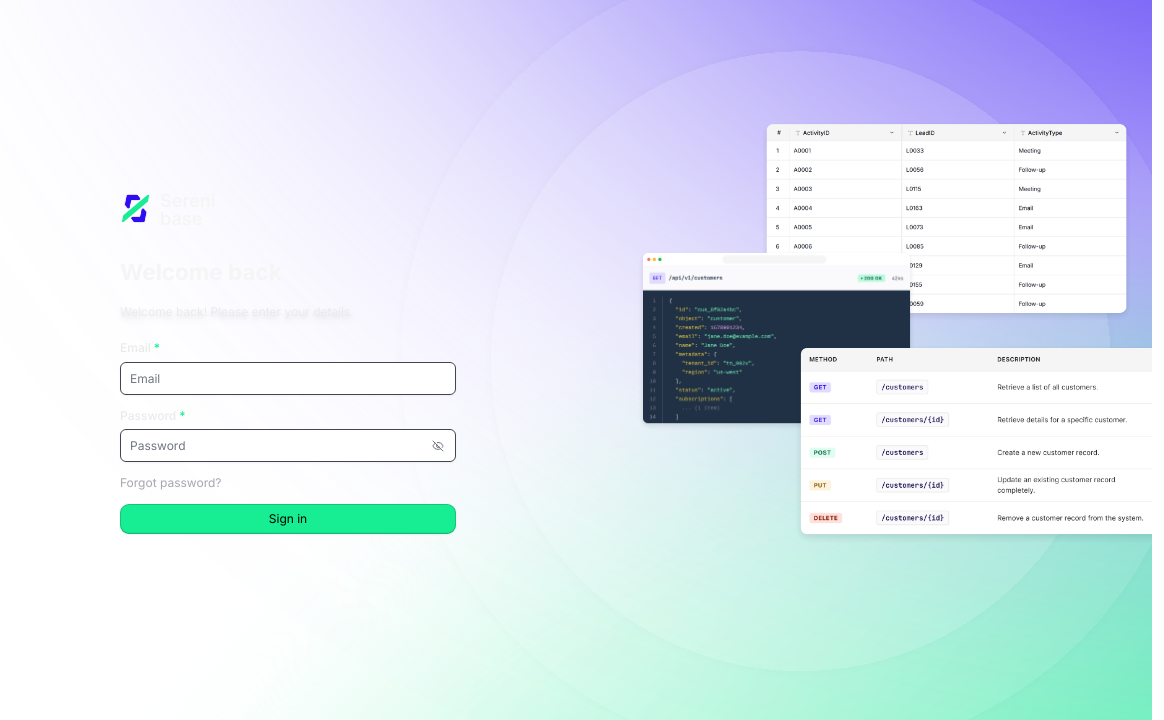
Test: LoginPage › Password validation › should clear error when password entered
Click the password field with placeholder "Password" at (288,446), box [120,429,456,462]
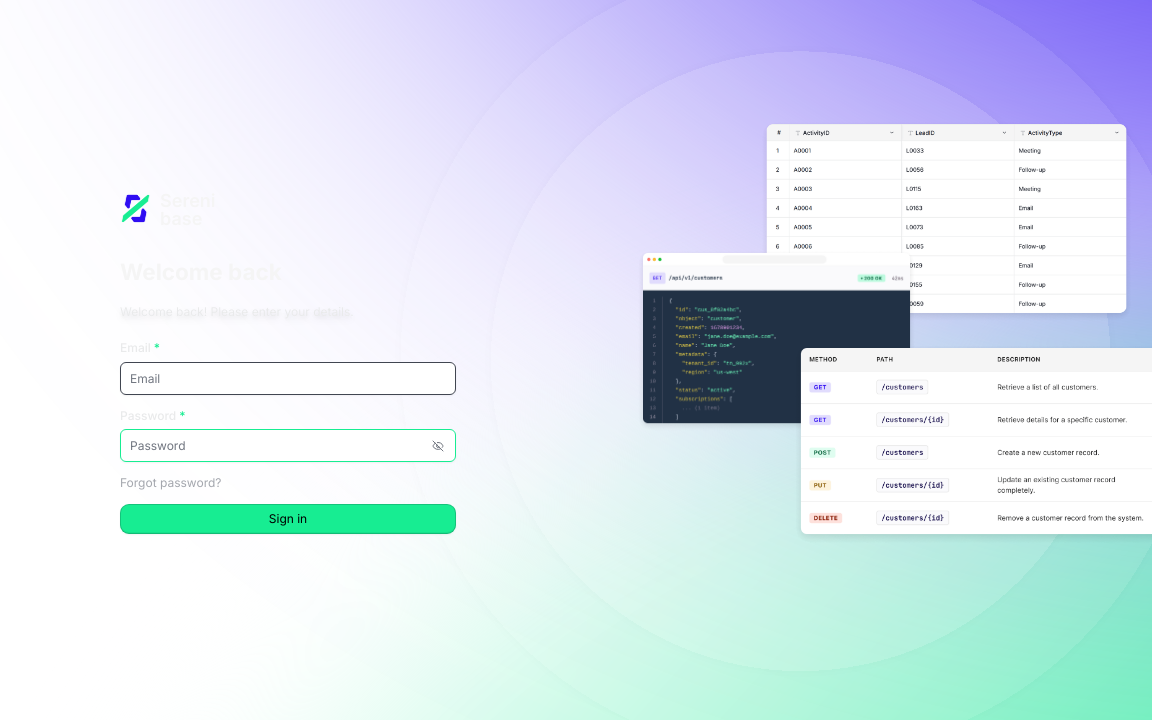
Press Tab
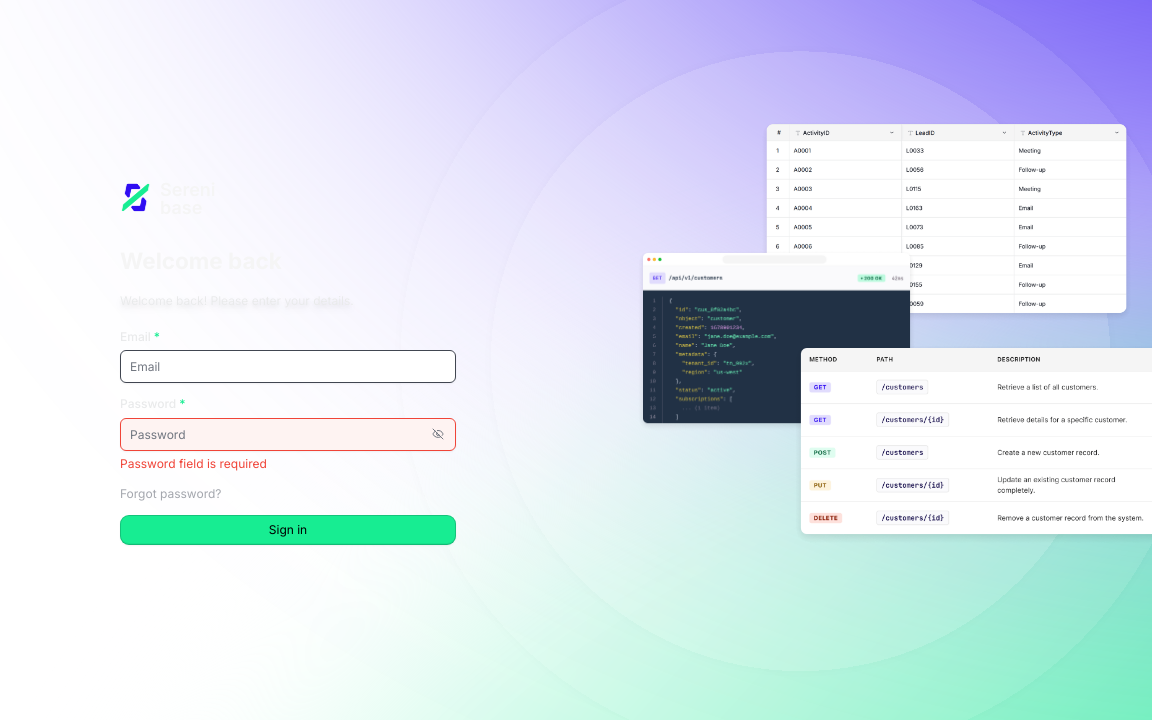
Expected: the text "Password field is required" is shown, [120,456,267,471]
Type "password123" into the password field labelled "Password *" at (288,434), box [120,418,456,451]
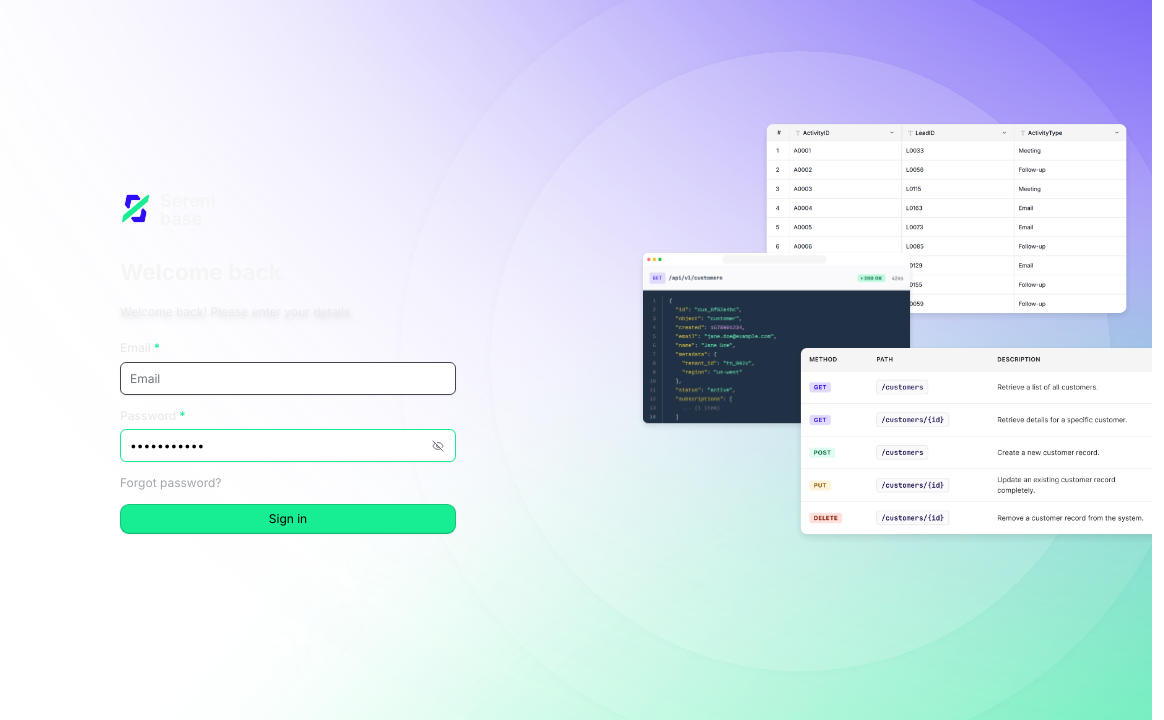
Expected: the text "Password field is required" is gone
